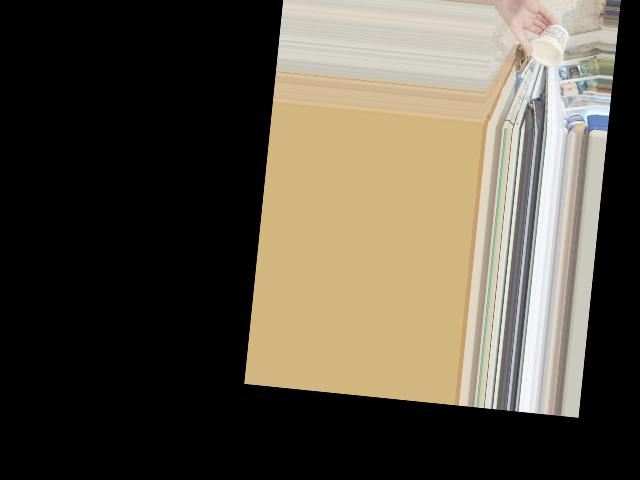cotage: (530, 20, 567, 67)
